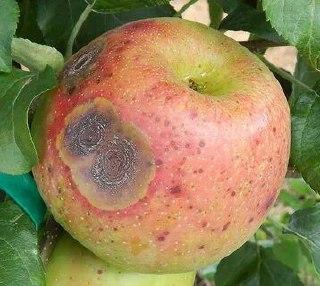Apple: (30, 17, 292, 276)
